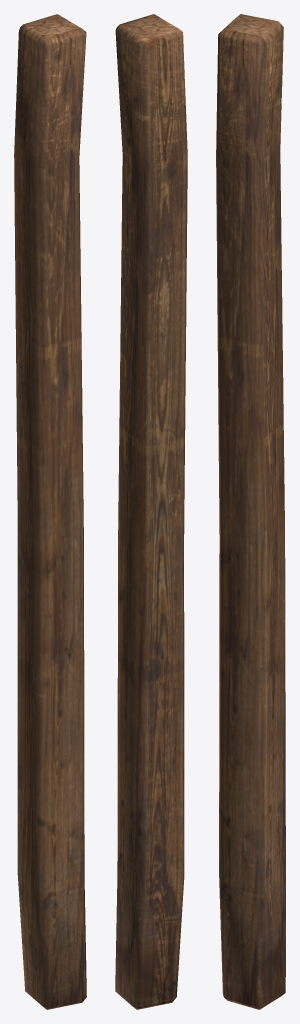
File: Beams 3.fbx
The picture shows the model from 3 angles, left to right: view 1: azimuth 30°, elevation 25°; view 2: azimuth 210°, elevation 25°; view 3: azimuth 330°, elevation 25°; orthographic projection.
Visible parts, largest first — view 1: Beams 3; view 2: Beams 3; view 3: Beams 3.
Part boxes in pixels (bbox=[...]): Beams 3: bbox=[14, 14, 86, 1009]; Beams 3: bbox=[115, 14, 187, 1009]; Beams 3: bbox=[216, 14, 285, 1009].
Bounding box in the file's own units: 0.3719 × 6.49 × 0.3536.
